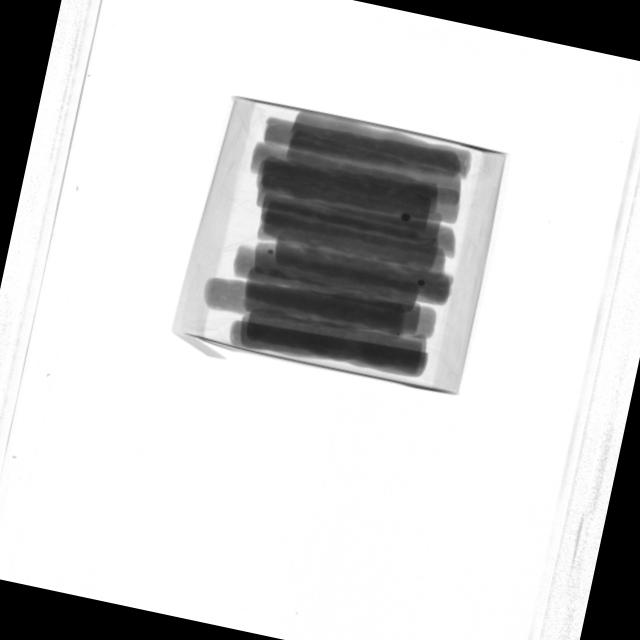ym: (401, 212, 413, 223), (417, 278, 426, 287), (268, 249, 274, 255), (397, 331, 402, 336)
